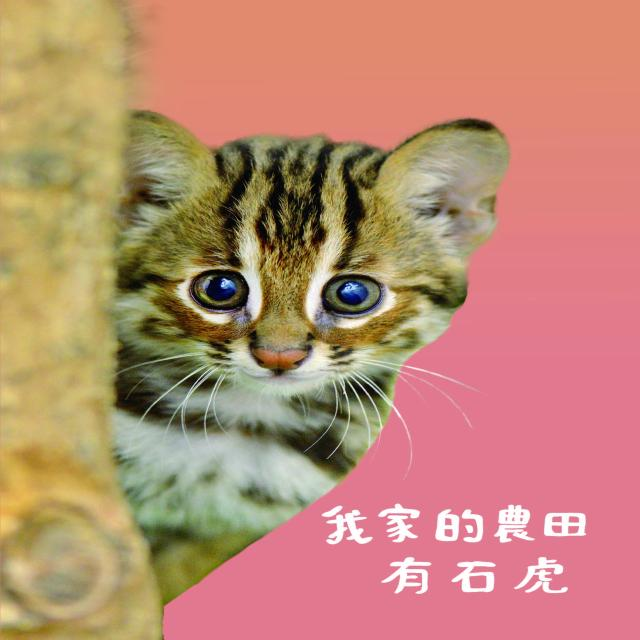leopard: (118, 103, 545, 462)
